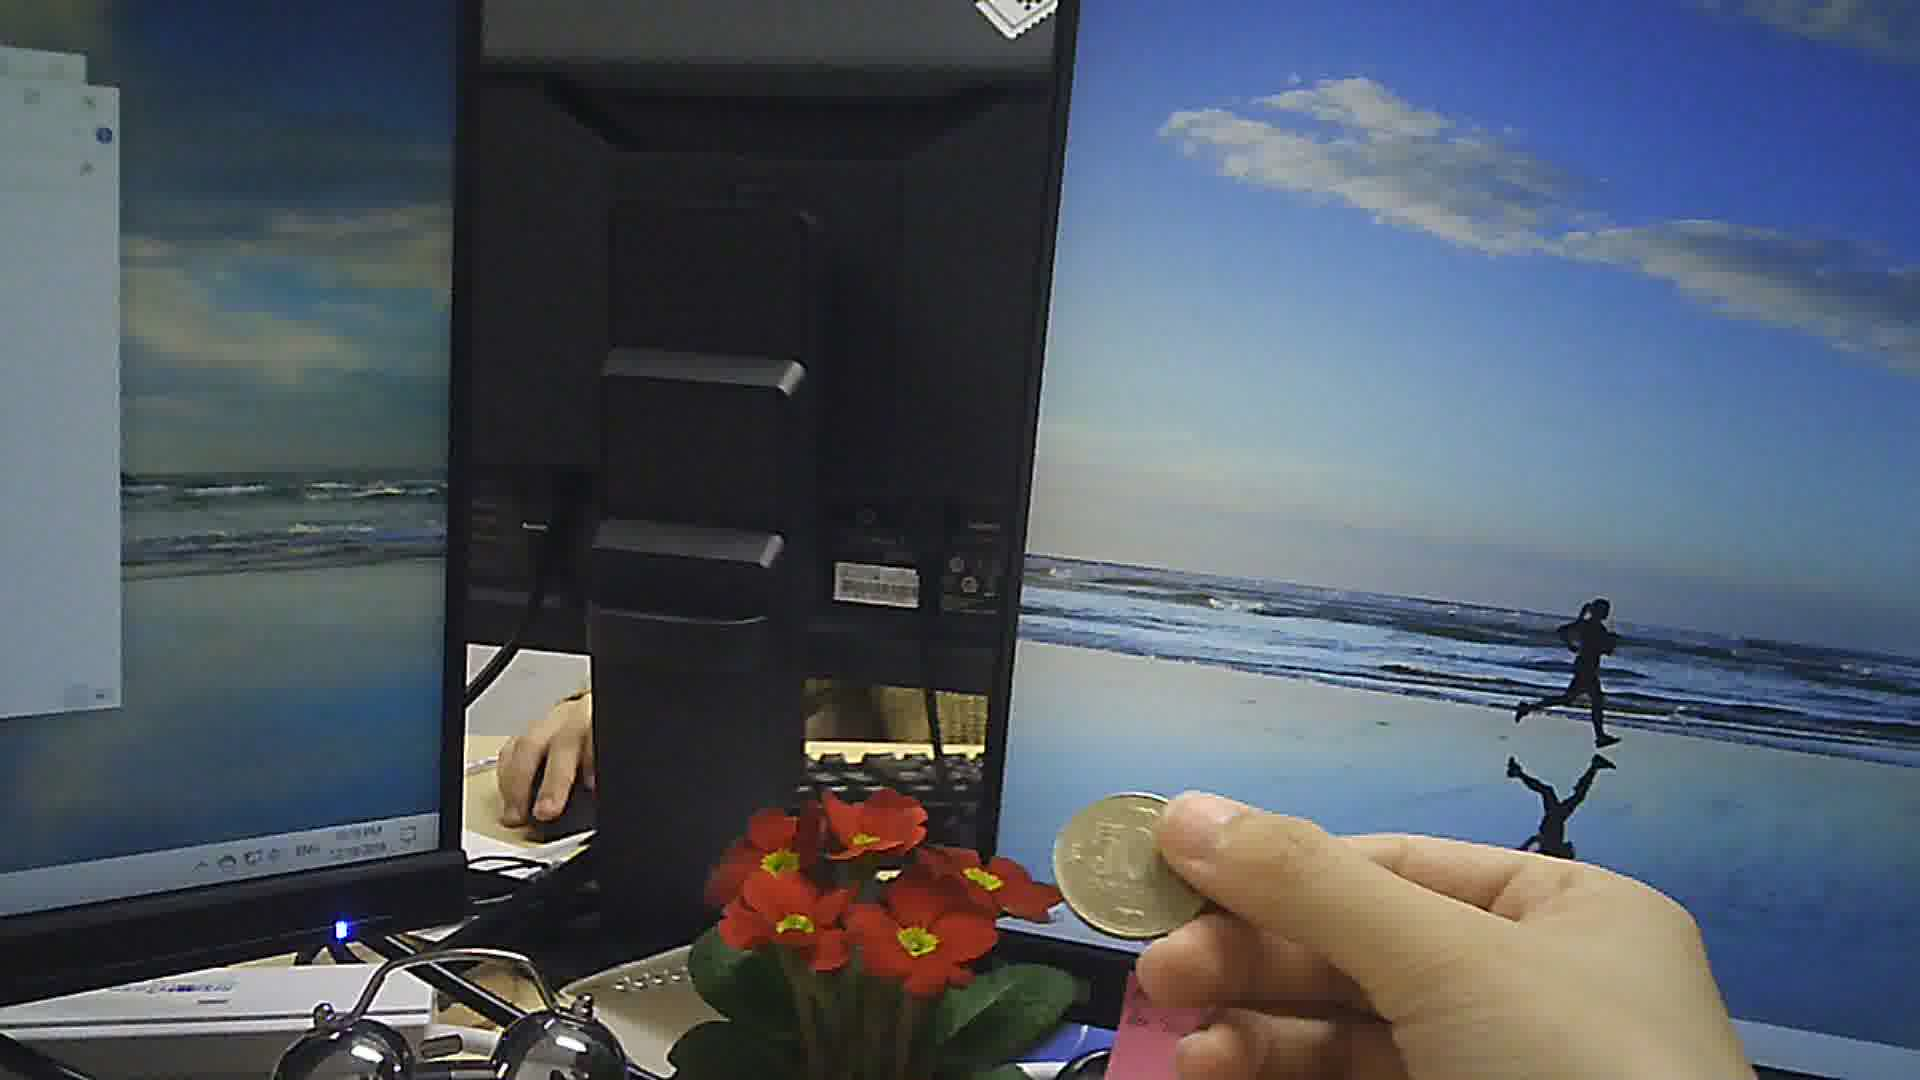500 Yen: (1051, 791, 1222, 944)
